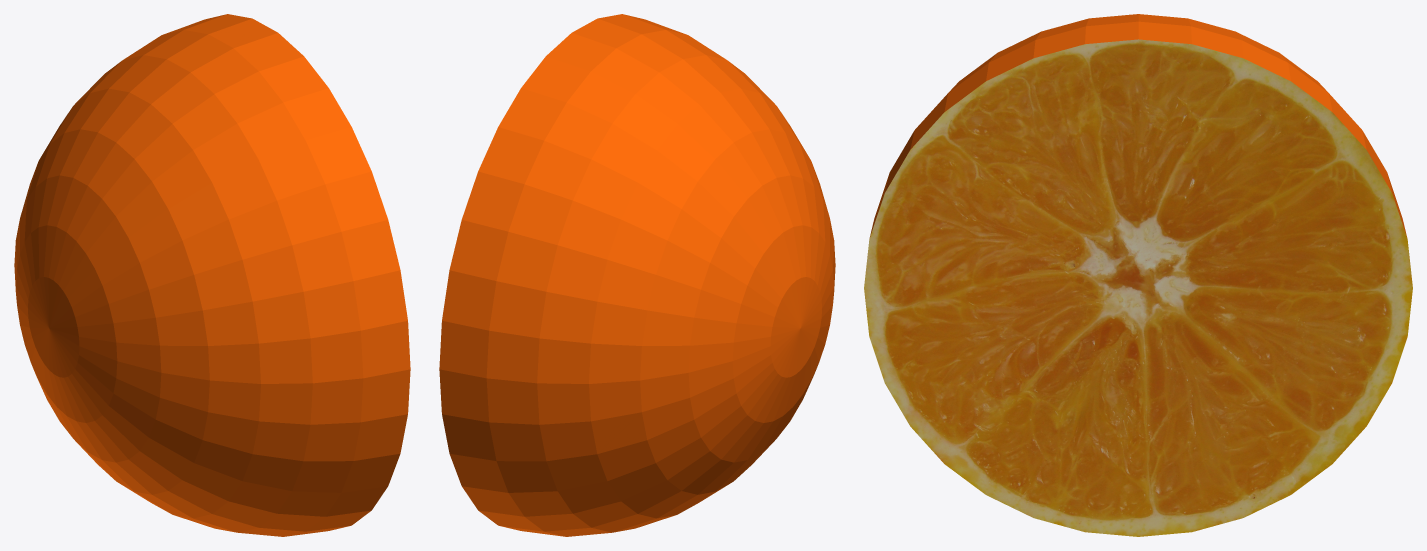
The model's file is orange_simple_slice_3D.gltf.
3 views of the same model, side by side, from view 1: azimuth 30°, elevation 25°; view 2: azimuth 150°, elevation 25°; view 3: azimuth 270°, elevation 25° (orthographic). The views are drawn at different scales.
Visible parts, largest first — view 1: Sphere_left; view 2: Sphere_left; view 3: Sphere_left.
Boxes of the visible parts, left/top/right/bottom form: Sphere_left: left=14, top=14, right=410, bottom=536; Sphere_left: left=439, top=14, right=835, bottom=536; Sphere_left: left=864, top=14, right=1412, bottom=536.
Size of the model in its own units: 1 by 2 by 2.
2 materials, 1 textured.
